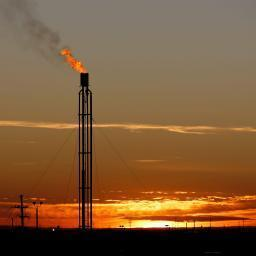fire: (61, 48, 89, 74)
smoke: (0, 0, 70, 61)
